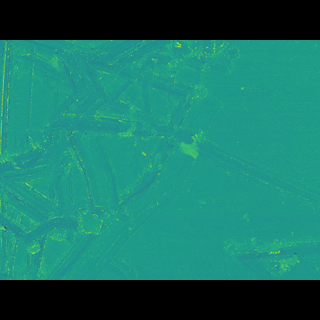Loch: (0, 68, 233, 250), (188, 141, 320, 199), (220, 213, 320, 249)
